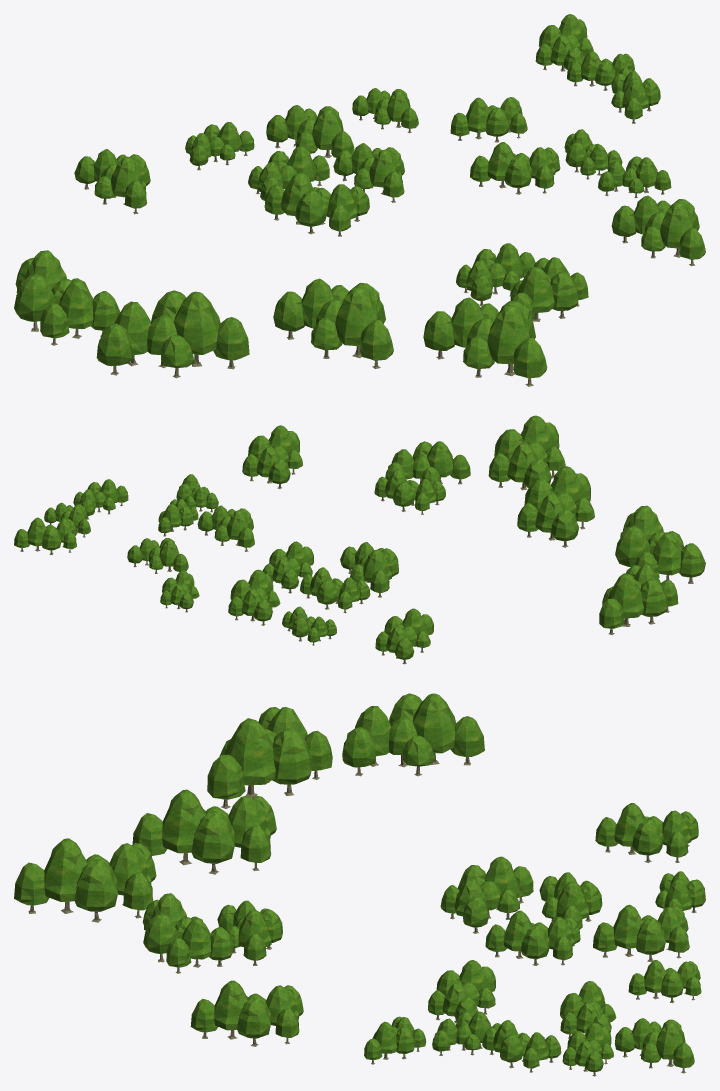
Rendered from MERGED_SM_ENV_KNVLLG_Tree_Distance_A1.mo.fbx.
3 renders of one model, top to bottom at view 1: azimuth 30°, elevation 25°; view 2: azimuth 150°, elevation 25°; view 3: azimuth 270°, elevation 25°, orthographic. The views are drawn at different scales.
Parts seen in each view (by area): view 1: MERGED_SM_ENV_KNVLLG_Tree_Distance_A1.mo; view 2: MERGED_SM_ENV_KNVLLG_Tree_Distance_A1.mo; view 3: MERGED_SM_ENV_KNVLLG_Tree_Distance_A1.mo.
Part boxes in pixels (box(x1,y1,x2,y2)): MERGED_SM_ENV_KNVLLG_Tree_Distance_A1.mo: box(14, 14, 705, 386); MERGED_SM_ENV_KNVLLG_Tree_Distance_A1.mo: box(14, 415, 705, 664); MERGED_SM_ENV_KNVLLG_Tree_Distance_A1.mo: box(14, 693, 705, 1076).
Size of the model in its own units: 423 by 41.71 by 343.
